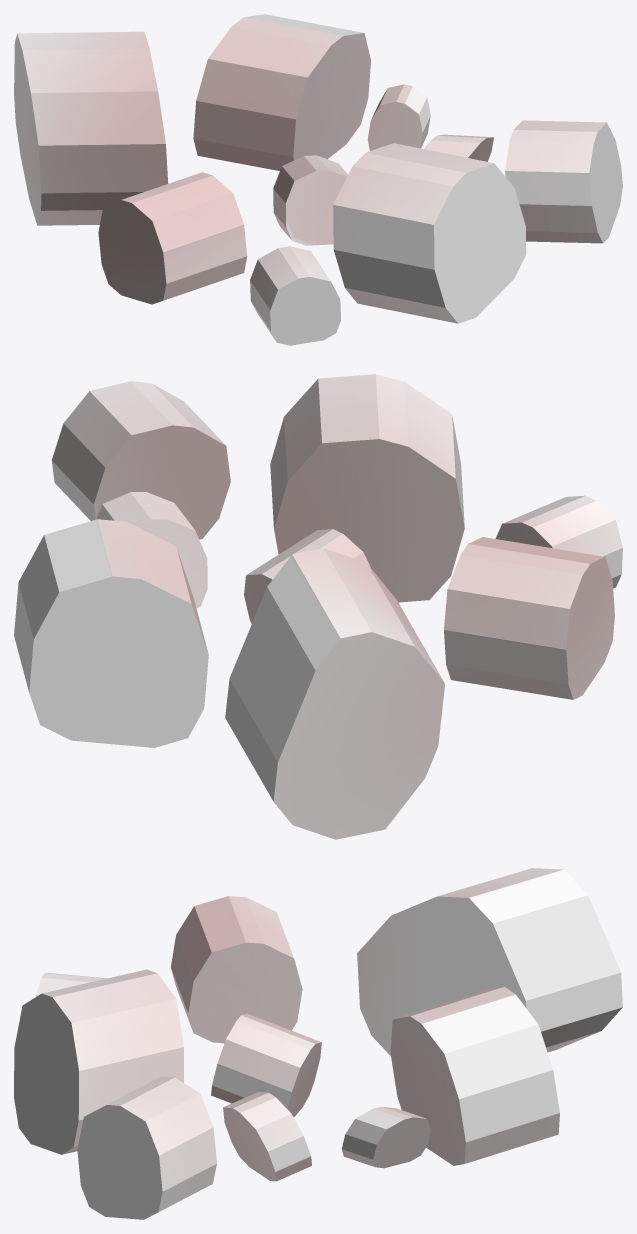
Rendered from pescao picado.fbx.
The picture shows the model from 3 angles, top to bottom: view 1: azimuth 30°, elevation 25°; view 2: azimuth 150°, elevation 25°; view 3: azimuth 270°, elevation 25°; orthographic projection. The views are drawn at different scales.
Parts seen in each view (by area): view 1: Cube.005; view 2: Cube.005; view 3: Cube.005.
Part boxes in pixels (left/top/right/bottom): Cube.005: left=14, top=14, right=622, bottom=345; Cube.005: left=14, top=374, right=622, bottom=839; Cube.005: left=14, top=868, right=622, bottom=1219.
Bounding box in the file's own units: 71.31 × 26.95 × 75.32.
Materials: 1 (1 with a texture image).
